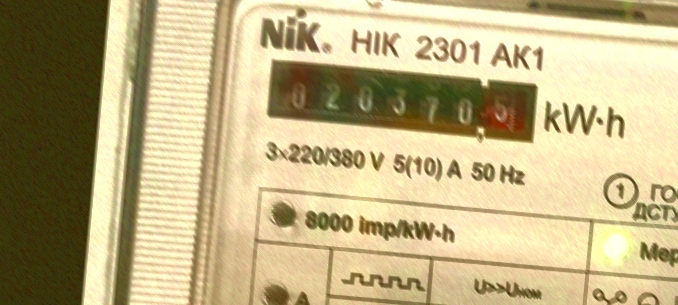0: (454, 95, 475, 127), (288, 79, 307, 109), (356, 83, 373, 112)
2: (322, 80, 342, 112)
3: (389, 85, 407, 116)
5: (490, 92, 511, 124)
7: (421, 93, 439, 125)
screen: (258, 52, 546, 152)
